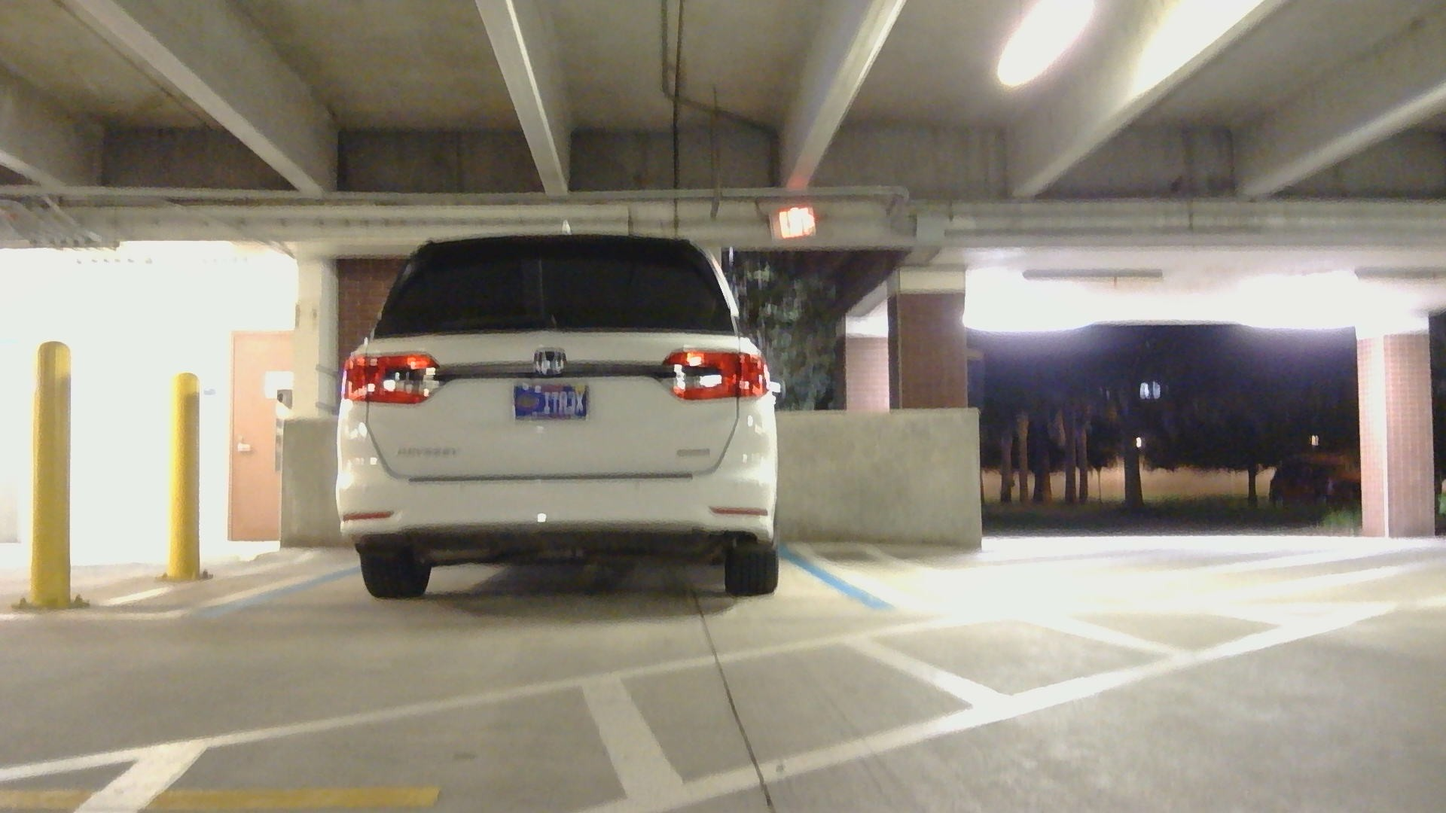occupied_spot: (333, 230, 782, 600)
